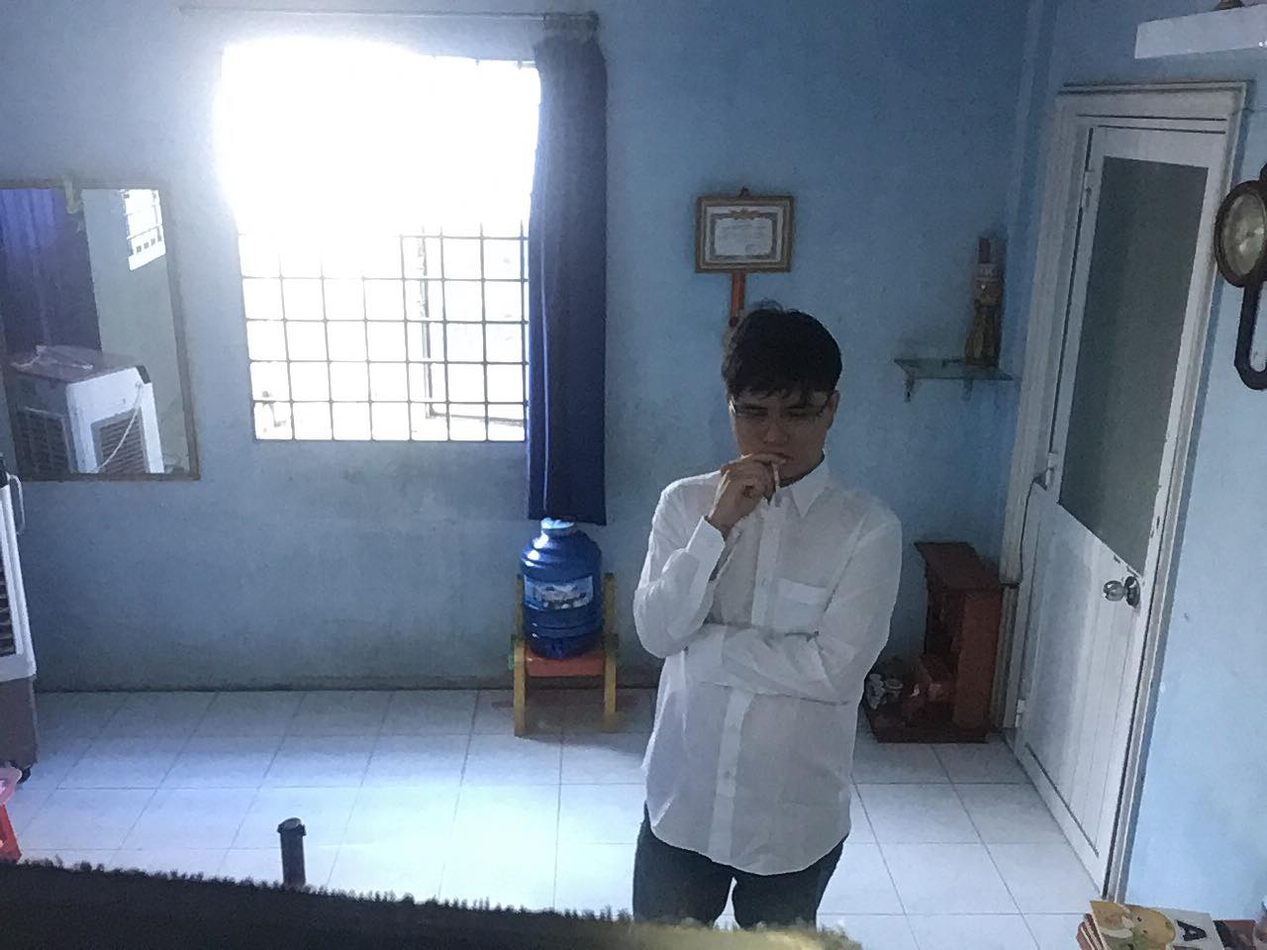cigarette: (760, 447, 794, 497)
person: (607, 284, 914, 950)
